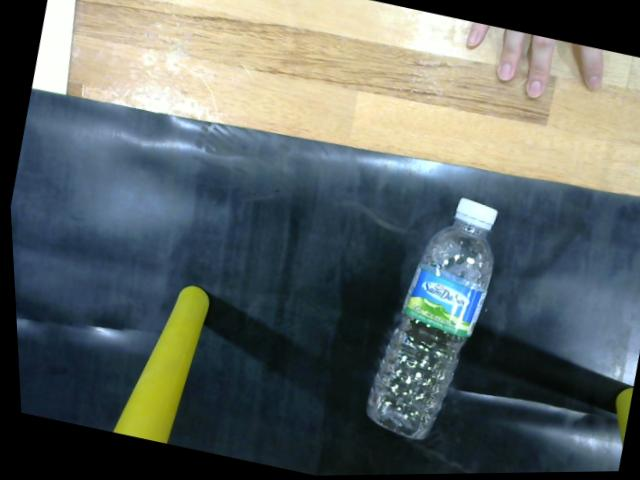bottle: (356, 192, 501, 446)
